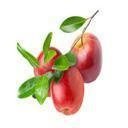apple: (33, 45, 69, 98)
